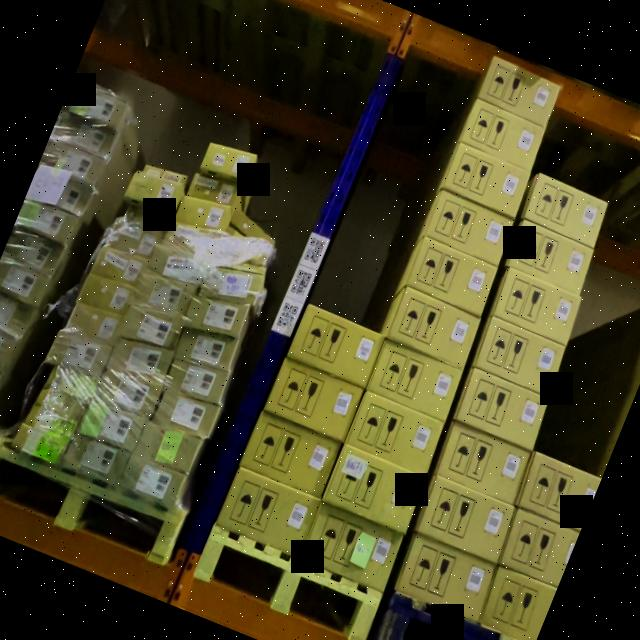box: (214, 466, 320, 557), (322, 444, 426, 533), (300, 504, 406, 590), (413, 474, 514, 564), (239, 410, 342, 497), (393, 534, 495, 620), (344, 391, 444, 477), (263, 357, 364, 442), (285, 304, 385, 389), (365, 339, 463, 422), (433, 422, 531, 504), (453, 366, 549, 448), (386, 286, 480, 369), (471, 315, 566, 397), (405, 236, 498, 317), (490, 266, 581, 343), (424, 190, 514, 267), (515, 451, 601, 531), (522, 170, 611, 247), (441, 142, 530, 219), (506, 219, 594, 295), (498, 508, 579, 587), (459, 98, 546, 171), (476, 56, 561, 129), (478, 567, 557, 640), (63, 429, 130, 485), (135, 420, 201, 475), (121, 457, 188, 511), (93, 369, 161, 422), (76, 401, 144, 453), (150, 390, 221, 439), (45, 327, 112, 378), (143, 241, 210, 289), (105, 339, 174, 384), (119, 305, 184, 352), (165, 359, 228, 406), (175, 327, 239, 371), (134, 273, 196, 317), (183, 296, 249, 337), (200, 266, 265, 306), (124, 169, 183, 211), (66, 301, 125, 343), (104, 218, 162, 259), (90, 245, 148, 286), (76, 273, 134, 314), (12, 424, 67, 466), (43, 365, 98, 403), (24, 402, 77, 441), (172, 196, 230, 230), (187, 171, 240, 207), (201, 144, 256, 178), (216, 236, 271, 267), (164, 222, 222, 251), (35, 389, 83, 423), (121, 205, 171, 235), (231, 211, 274, 244), (142, 164, 186, 185)
